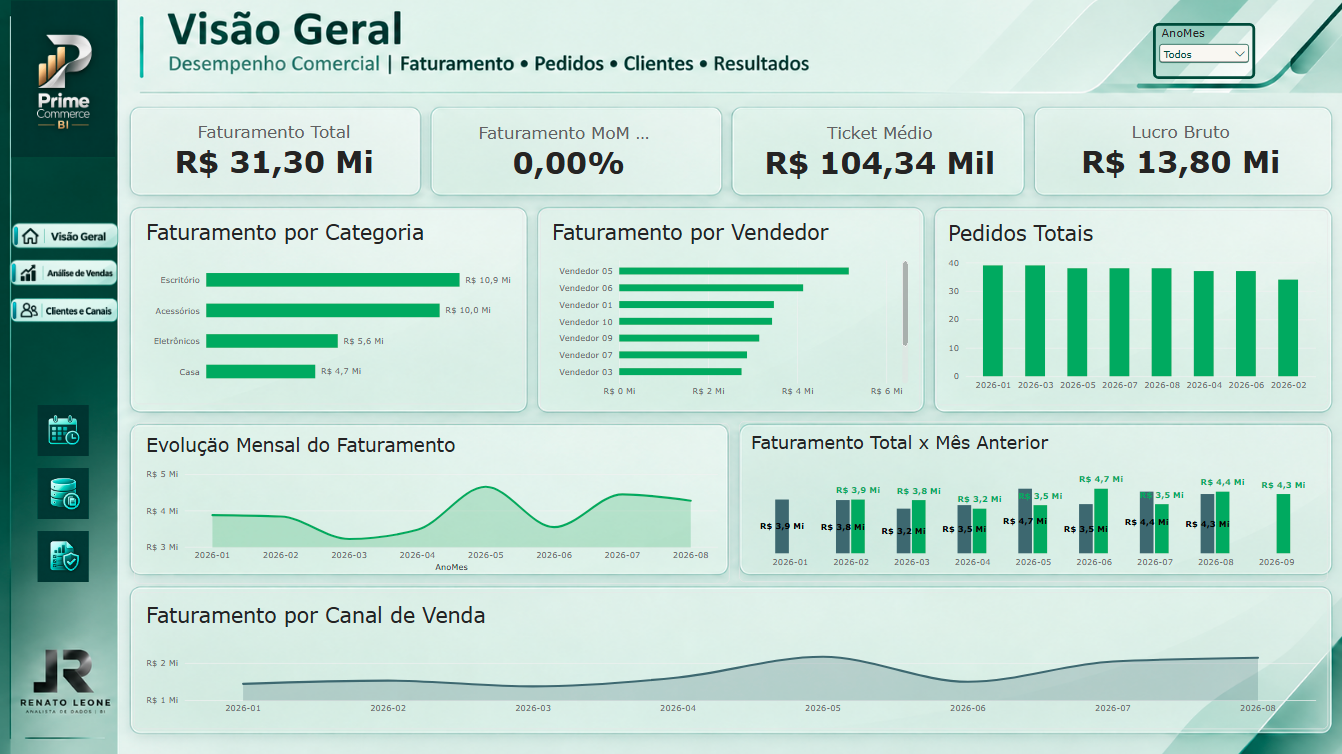

This screenshot's page, from the dashboard's own definition file:
{"tool":"powerbi","page":{"name":"01_Visão Geral","canvas":[1920,1080],"ordinal":0},"visuals":[{"type":"cardVisual","title":"Faturamento Total","fields":{"Data":["itens_pedido.Faturamento Total"]},"box":[0,236.4,428.9,112.3],"z":0},{"type":"cardVisual","fields":{"Data":["pedidos.Pedidos Totais"]},"box":[428.9,237.8,236.4,113.8],"z":1},{"type":"cardVisual","fields":{"Data":["itens_pedido.Quantidade Itens"]},"box":[665.3,234.9,248,115.3],"z":2},{"type":"cardVisual","fields":{"Data":["pedidos.Ticket Médio"]},"box":[913.3,237.8,481.5,115.3],"z":3},{"type":"cardVisual","fields":{"Data":["itens_pedido.Lucro Bruto"]},"box":[1394.8,236.4,525.2,112.3],"z":4},{"type":"clusteredBarChart","title":"Faturamento por Categoria","fields":{"Category":["produtos.categoria"],"Y":["itens_pedido.Faturamento Total"]},"box":[0,348.7,913.3,461],"z":5},{"type":"clusteredBarChart","title":"Faturamento por Vendedor","fields":{"Category":["vendedores.nome_vendedor"],"Y":["itens_pedido.Faturamento Total"]},"box":[908.9,348.7,1011.1,461],"z":6},{"type":"clusteredBarChart","title":"Faturamento por Canal de Venda","fields":{"Category":["pedidos.canal_venda"],"Y":["itens_pedido.Faturamento Total"]},"box":[0,808.3,1920,272.8],"z":7},{"type":"slicer","title":"Visão Geral","fields":{"Values":["pedidos.data_pedido"]},"box":[0,94.8,1920,141.5],"z":8},{"type":"textbox","box":[0,0,1920,96.3],"z":9}]}

Visuals, with their boxes on the page's 1920x1080 design canvas (x1, y1, x2, y2). These are canvas units, not pixel positions in the 1342x754 screenshot, which may show the page scaled, cropped or inside an application window:
"Faturamento Total" cardVisual: x1=0 y1=236 x2=429 y2=349
cardVisual - pedidos.Pedidos Totais: x1=429 y1=238 x2=665 y2=352
cardVisual - itens_pedido.Quantidade Itens: x1=665 y1=235 x2=913 y2=350
cardVisual - pedidos.Ticket Médio: x1=913 y1=238 x2=1395 y2=353
cardVisual - itens_pedido.Lucro Bruto: x1=1395 y1=236 x2=1920 y2=349
"Faturamento por Categoria" clusteredBarChart: x1=0 y1=349 x2=913 y2=810
"Faturamento por Vendedor" clusteredBarChart: x1=909 y1=349 x2=1920 y2=810
"Faturamento por Canal de Venda" clusteredBarChart: x1=0 y1=808 x2=1920 y2=1081
"Visão Geral" slicer: x1=0 y1=95 x2=1920 y2=236
textbox: x1=0 y1=0 x2=1920 y2=96
